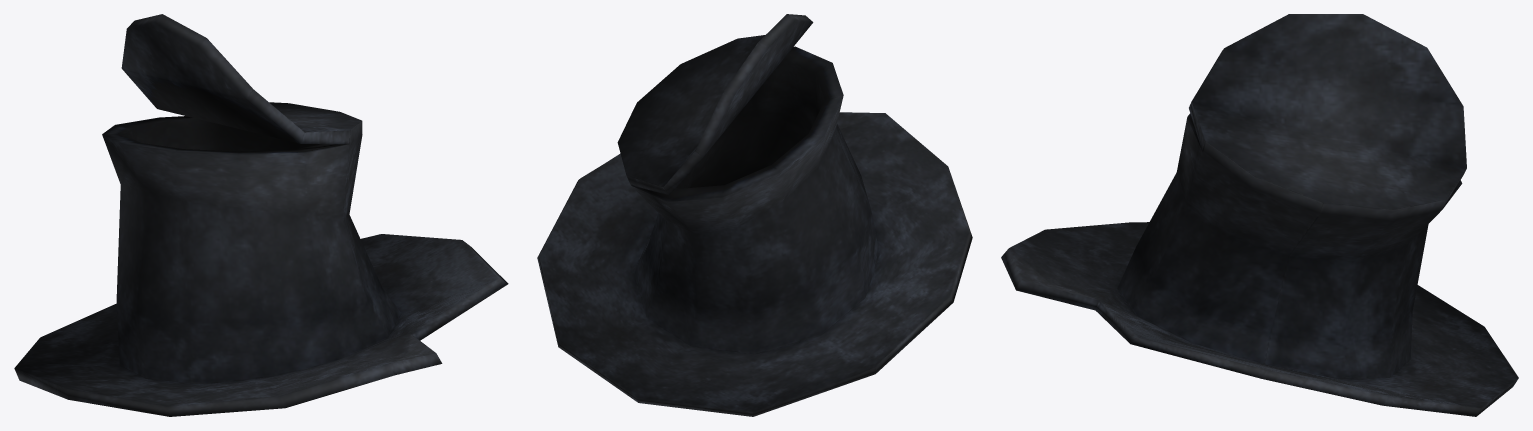
The model's file is scarecrowhat.obj.
3 views of the same model, side by side, from view 1: azimuth 30°, elevation 25°; view 2: azimuth 150°, elevation 25°; view 3: azimuth 270°, elevation 25° (orthographic). The views are drawn at different scales.
Parts seen in each view (by area): view 1: Default; view 2: Default; view 3: Default.
Boxes of the visible parts, box(x1,y1,x2,y2) form: Default: box(14, 14, 508, 416); Default: box(537, 14, 972, 416); Default: box(1001, 14, 1518, 416).
Bounding box in the file's own units: 0.3805 × 0.3236 × 0.4317.
Materials: 1 (1 with a texture image).
